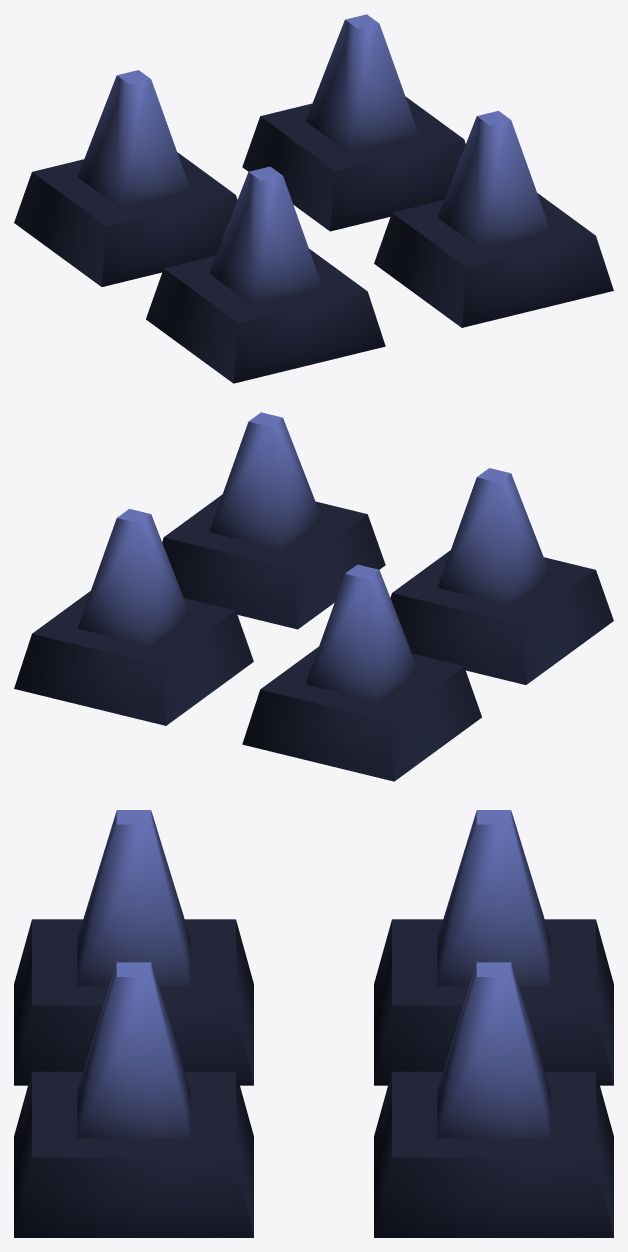
The model's file is trap.fbx.
3 renders of one model, top to bottom at view 1: azimuth 30°, elevation 25°; view 2: azimuth 150°, elevation 25°; view 3: azimuth 270°, elevation 25°, orthographic. The views are drawn at different scales.
Parts seen in each view (by area): view 1: trap; view 2: trap; view 3: trap.
Part boxes in pixels (x1,y1,x2,y2): trap: [14, 14, 613, 383]; trap: [14, 412, 613, 781]; trap: [14, 810, 613, 1237].
Size of the model in its own units: 6.38 by 2.55 by 6.38.
